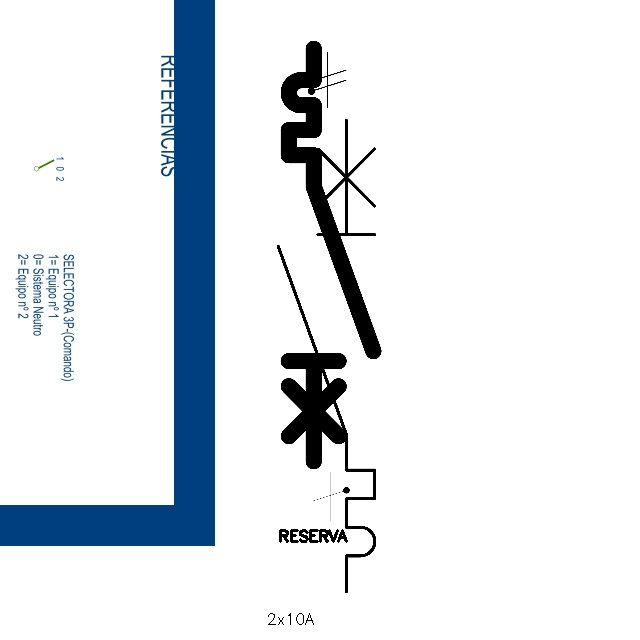interruptor_termomagnetico: (266, 108, 387, 604), (278, 38, 384, 472)
